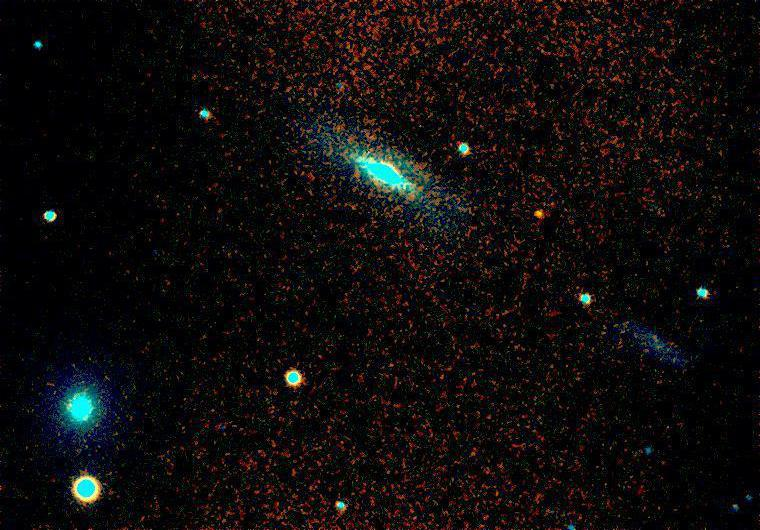star: (522, 201, 552, 231)
